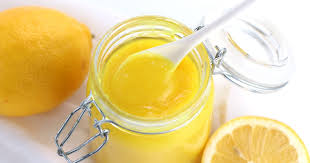Lemon: (1, 10, 97, 115)
